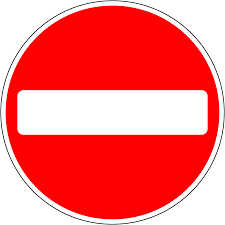noentry: (7, 1, 215, 220)
